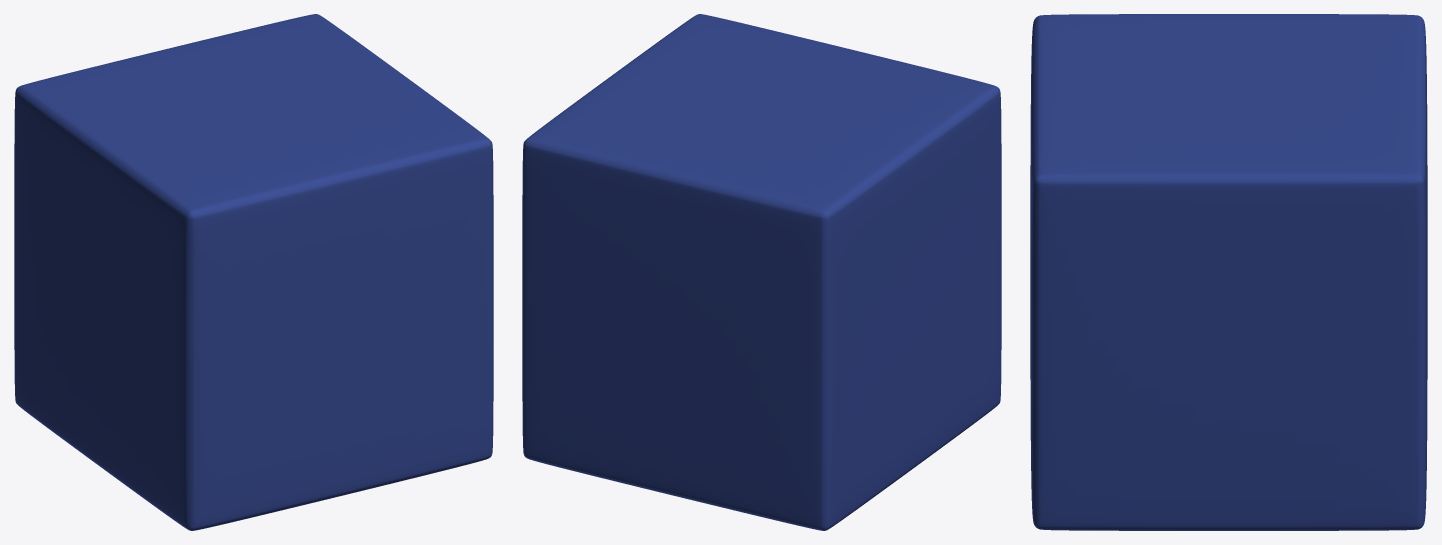
3 renders of one model, left to right at view 1: azimuth 30°, elevation 25°; view 2: azimuth 150°, elevation 25°; view 3: azimuth 270°, elevation 25°, orthographic. The views are drawn at different scales.
Parts seen in each view (by area): view 1: Cube; view 2: Cube; view 3: Cube.
Boxes of the visible parts, x1,y1,x2,y2 form: Cube: [14, 14, 493, 530]; Cube: [522, 14, 1001, 530]; Cube: [1030, 14, 1427, 530].
Bounding box in the file's own units: 200 × 200 × 200.
